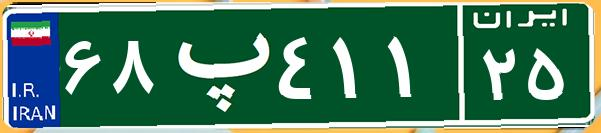1: (385, 28, 445, 110), (330, 28, 385, 110)
2: (475, 38, 525, 113)
4: (273, 28, 330, 110)
5: (525, 38, 570, 115)
6: (57, 26, 110, 107)
8: (110, 28, 158, 105)
پ: (158, 15, 273, 115)
